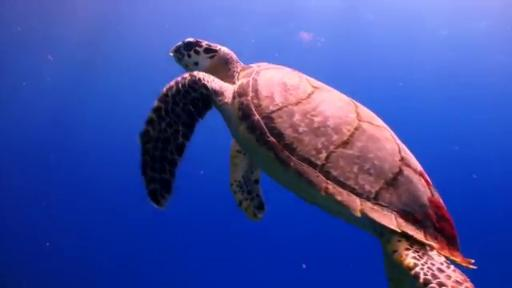Fish: (140, 39, 474, 287)
